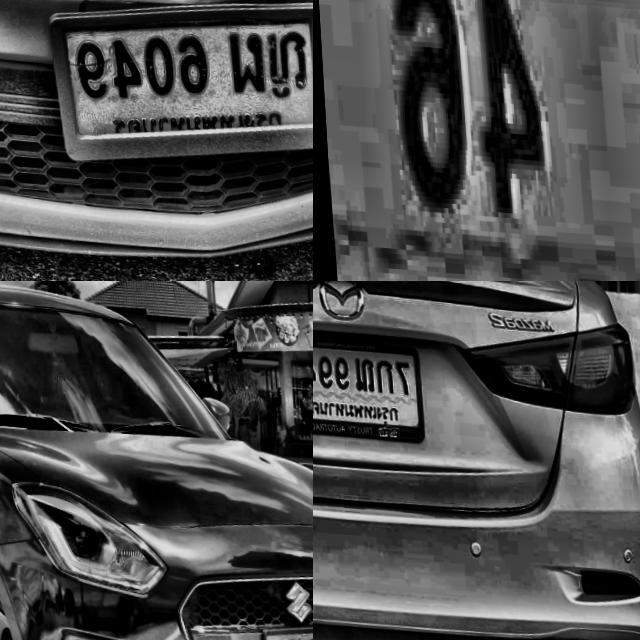license-plate: (313, 0, 640, 281), (42, 0, 313, 184), (313, 329, 420, 438), (252, 604, 313, 640)
